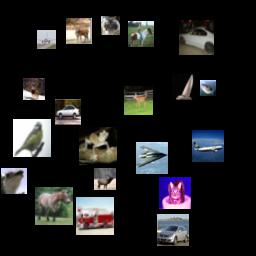airplane: (192, 130, 224, 162), (136, 142, 168, 174), (37, 30, 56, 49)
automobile: (179, 20, 214, 55), (157, 214, 189, 246), (55, 99, 81, 125)
bird: (13, 119, 51, 157), (1, 168, 27, 194)
cat: (159, 177, 191, 209), (101, 16, 120, 35)
deer: (124, 86, 153, 115), (66, 18, 92, 44), (94, 168, 116, 190), (23, 78, 45, 100)
frog: (79, 127, 117, 165)
ship: (172, 74, 198, 100), (200, 80, 216, 96)
truck: (76, 197, 114, 235)
